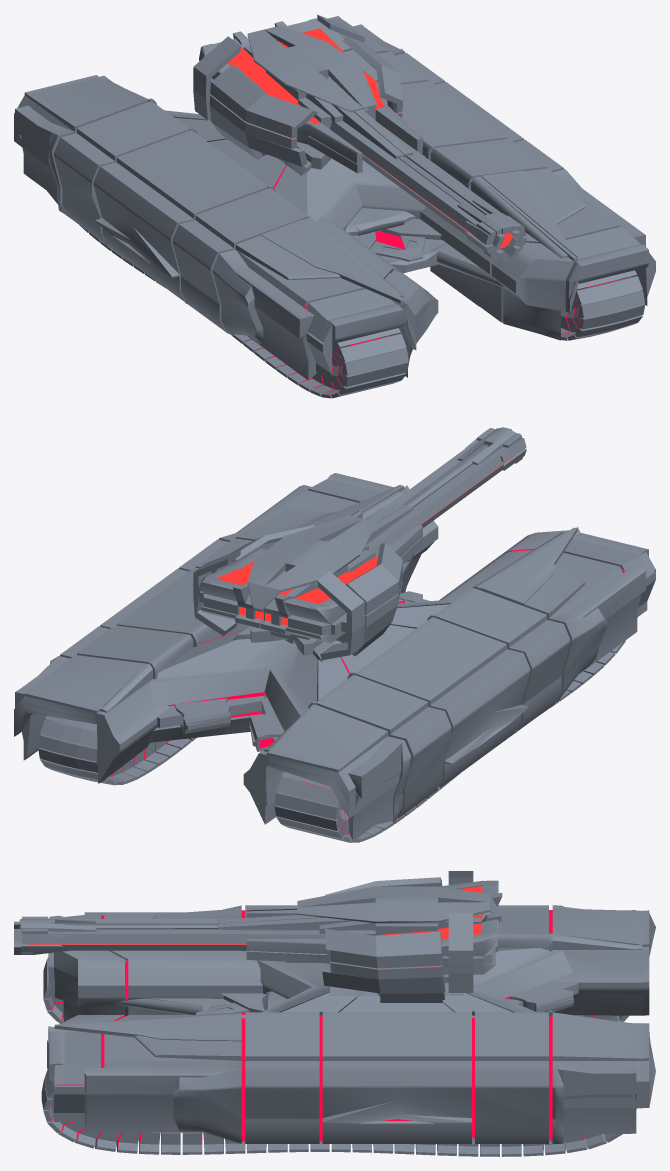
The model's file is boss_juggernaut.glb.
3 views of the same model, one above another, from view 1: azimuth 30°, elevation 25°; view 2: azimuth 150°, elevation 25°; view 3: azimuth 270°, elevation 25° (orthographic). The views are drawn at different scales.
Parts seen in each view (by area): view 1: Tank Armature_0, Cube, Tank Armature_2, Cube.000, Cube.001; view 2: Tank Armature_0, Cube, Tank Armature_2, Cube.001, Cube.000, Tank Armature_1; view 3: Tank Armature_0, Cube, Cube.001, Tank Armature_2, Tank Armature_1, Cube.000.
Part boxes in pixels (x1=…): Tank Armature_0: x1=14, y1=16, x2=655, y2=380; Cube: x1=193, y1=14, x2=526, y2=262; Tank Armature_2: x1=14, y1=95, x2=655, y2=382; Cube.000: x1=79, y1=225, x2=408, y2=398; Cube.001: x1=561, y1=270, x2=644, y2=340; Tank Armature_0: x1=14, y1=473, x2=655, y2=840; Cube: x1=193, y1=427, x2=526, y2=660; Tank Armature_2: x1=263, y1=479, x2=655, y2=791; Cube.001: x1=38, y1=716, x2=196, y2=785; Cube.000: x1=274, y1=617, x2=637, y2=842; Tank Armature_1: x1=168, y1=548, x2=624, y2=809; Tank Armature_0: x1=47, y1=905, x2=655, y2=1144; Cube: x1=14, y1=871, x2=502, y2=1002; Cube.001: x1=41, y1=1068, x2=636, y2=1156; Tank Armature_2: x1=54, y1=913, x2=649, y2=1121; Tank Armature_1: x1=55, y1=910, x2=552, y2=1141; Cube.000: x1=43, y1=957, x2=628, y2=1023.
Size of the model in its own units: 4.04 by 2.13 by 6.37.
